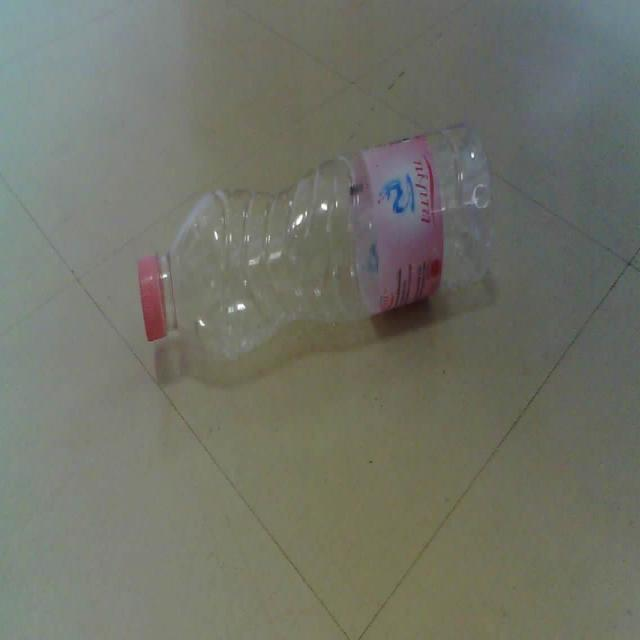empty: (139, 126, 492, 360)
